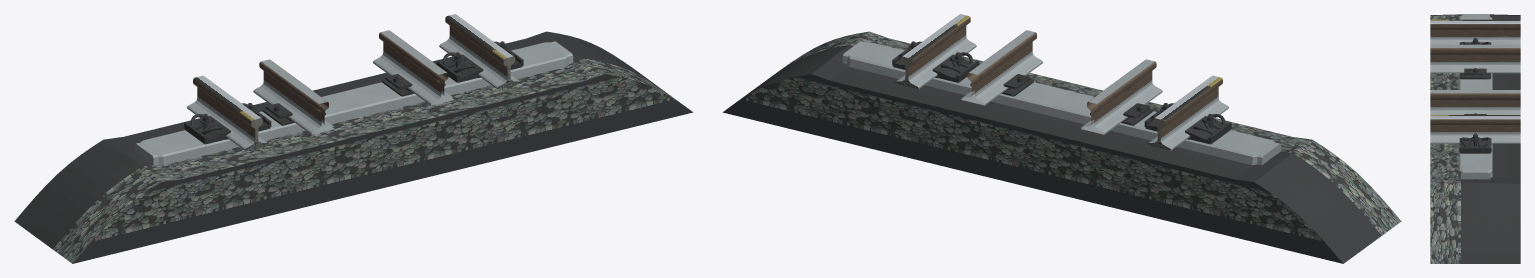
The model's file is center_guard_high.obj.
3 views of the same model, side by side, from view 1: azimuth 30°, elevation 25°; view 2: azimuth 150°, elevation 25°; view 3: azimuth 270°, elevation 25° (orthographic). The views are drawn at different scales.
Visible parts, largest first — view 1: ballast, sleeper, center_guard_left, center_guard_right, rail_right, rail_left, fastener_left, fastener_right, center_fastener_left, center_fastener_right; view 2: ballast, sleeper, center_guard_left, center_guard_right, rail_right, rail_left, fastener_left, fastener_right, center_fastener_left, center_fastener_right; view 3: ballast, center_guard_left, rail_right, rail_left, center_guard_right, sleeper, fastener_right, center_fastener_left, fastener_left.
Boxes of the visible parts, x1,y1,x2,y2 form: ballast: [14, 31, 693, 263]; sleeper: [134, 41, 573, 165]; center_guard_left: [253, 59, 334, 134]; center_guard_right: [373, 30, 454, 105]; rail_right: [439, 14, 519, 88]; rail_left: [187, 75, 266, 150]; fastener_left: [184, 103, 271, 144]; fastener_right: [436, 41, 523, 82]; center_fastener_left: [262, 103, 325, 125]; center_fastener_right: [382, 74, 445, 96]; ballast: [722, 31, 1401, 263]; sleeper: [842, 41, 1281, 165]; center_guard_left: [1081, 59, 1162, 134]; center_guard_right: [961, 30, 1042, 105]; rail_right: [896, 14, 976, 88]; rail_left: [1149, 75, 1228, 150]; fastener_left: [1144, 103, 1231, 144]; fastener_right: [892, 41, 979, 82]; center_fastener_left: [1090, 103, 1153, 125]; center_fastener_right: [970, 74, 1033, 96]; ballast: [1430, 14, 1520, 263]; center_guard_left: [1430, 44, 1520, 73]; rail_right: [1430, 115, 1520, 143]; rail_left: [1430, 19, 1520, 44]; center_guard_right: [1430, 90, 1520, 114]; sleeper: [1458, 14, 1492, 179]; fastener_right: [1459, 133, 1491, 153]; center_fastener_left: [1459, 68, 1491, 79]; fastener_left: [1459, 38, 1491, 44].
Size of the model in its own units: 3.7 by 0.5683 by 0.6.
